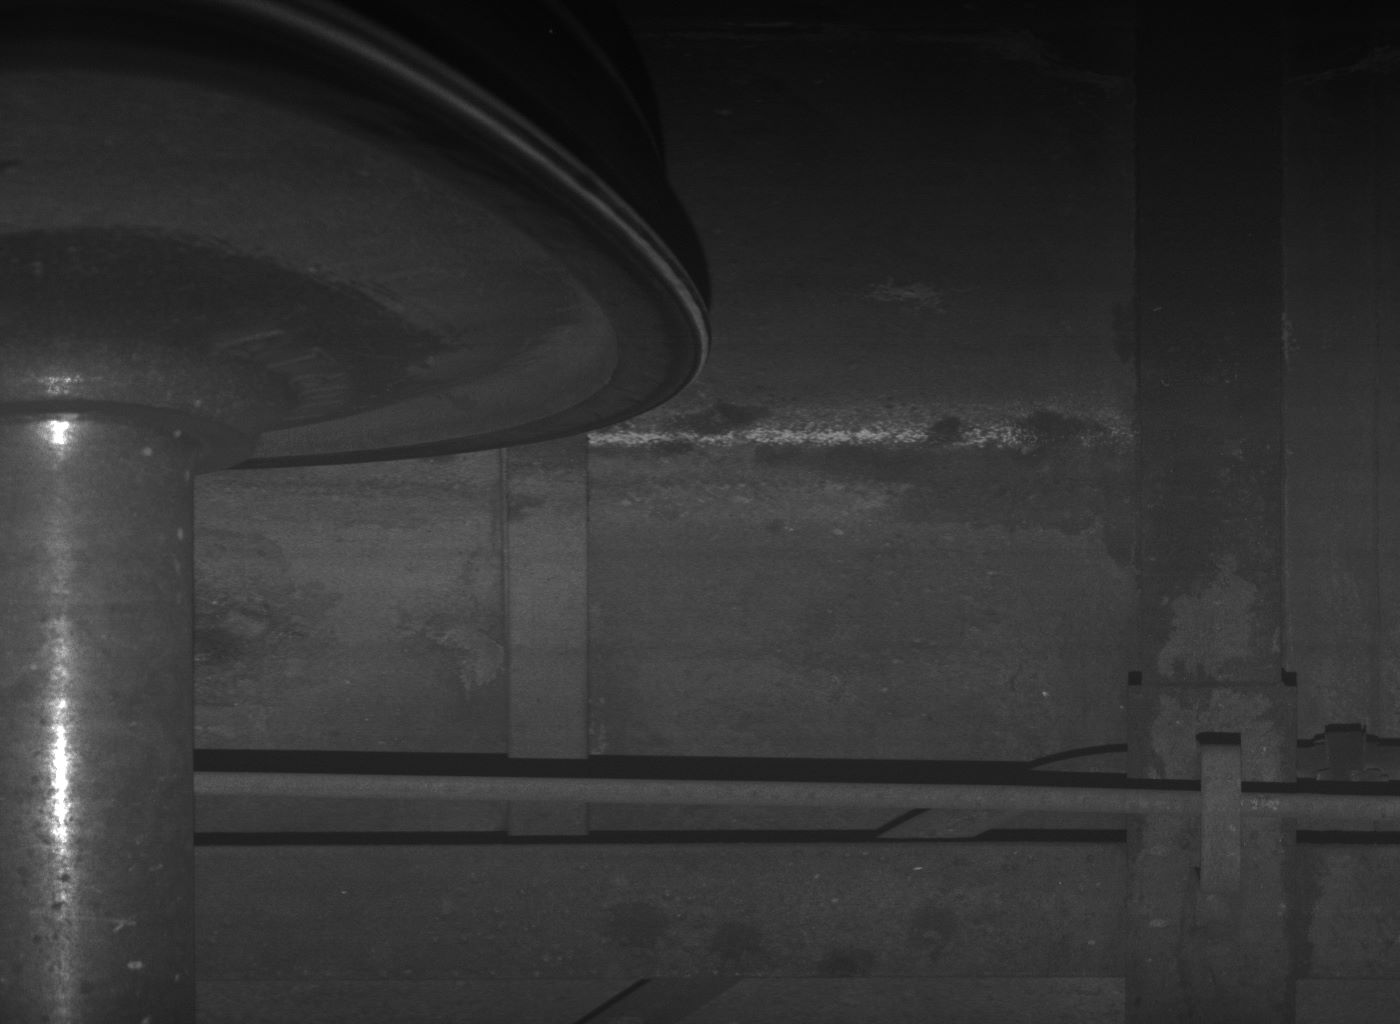normal: (1196, 734, 1243, 894)
